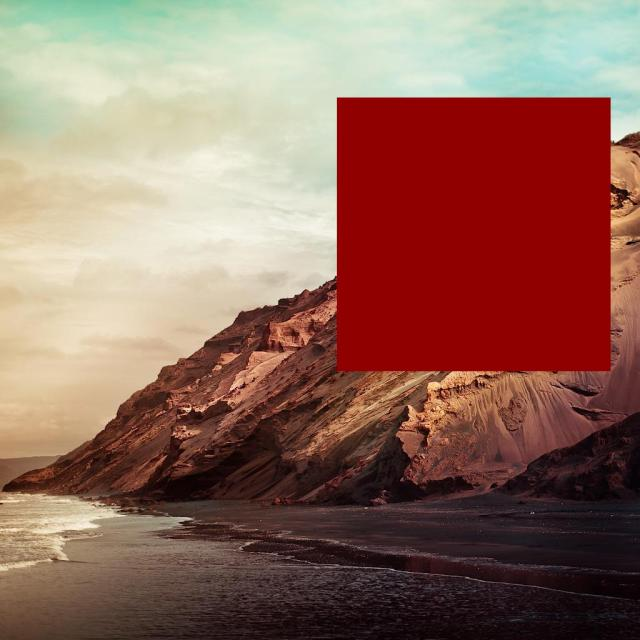RedSquare: (330, 90, 618, 381)
